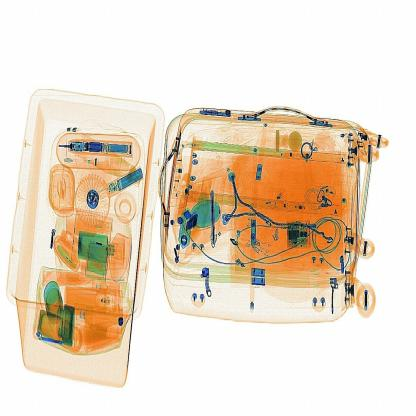knife: (204, 186, 228, 250)
